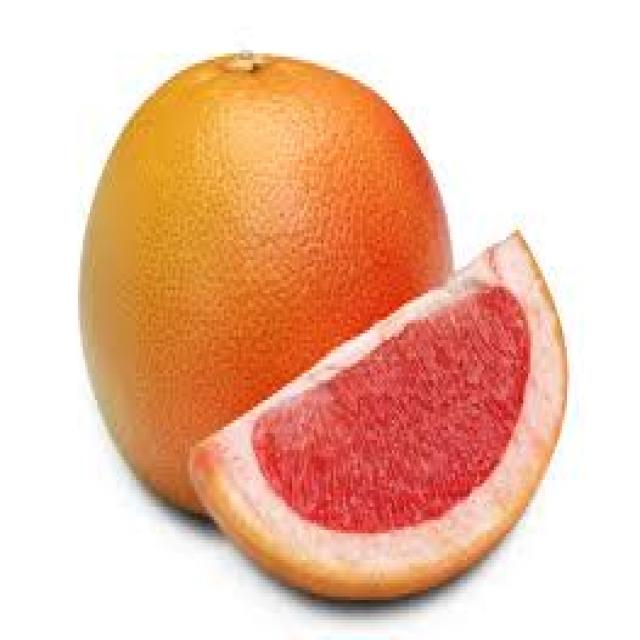greapefurit: (70, 27, 572, 600)
